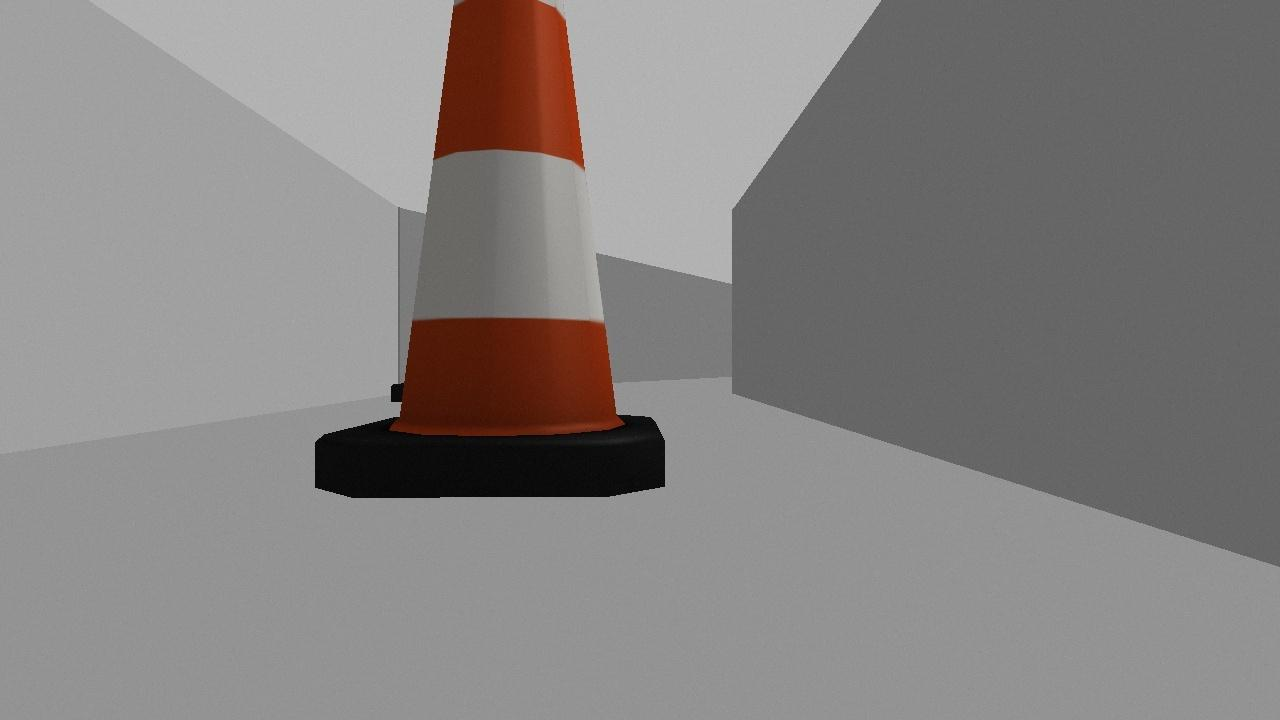cone_barrel: (312, 0, 662, 498)
